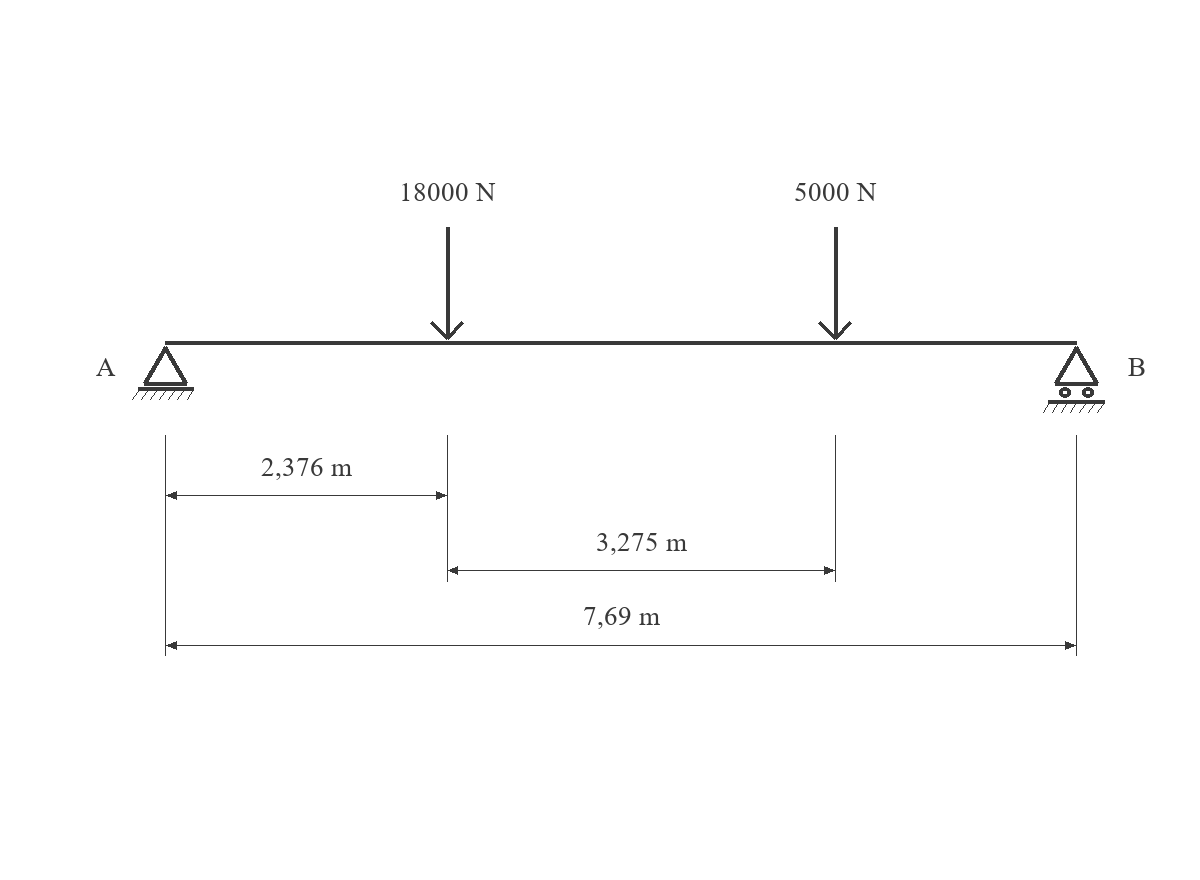pin_support: (132, 346, 194, 400)
point_load: (430, 227, 464, 340), (818, 227, 852, 340)
roller_support: (1043, 346, 1105, 413)
